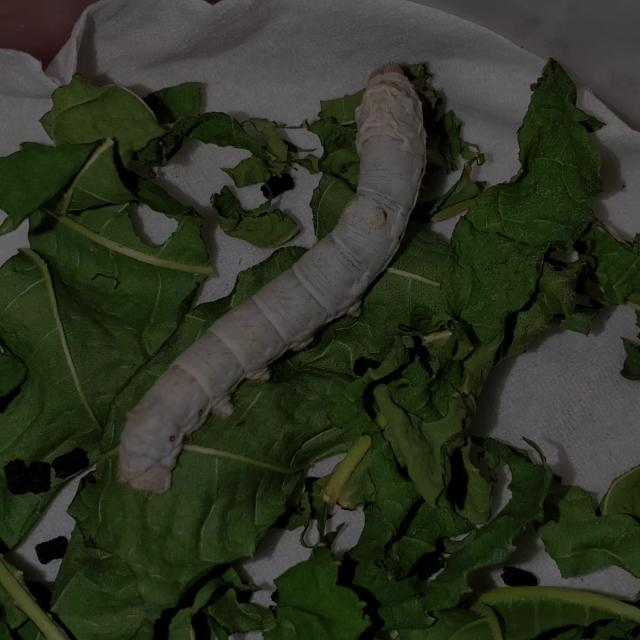Healthy: (110, 63, 439, 498)
